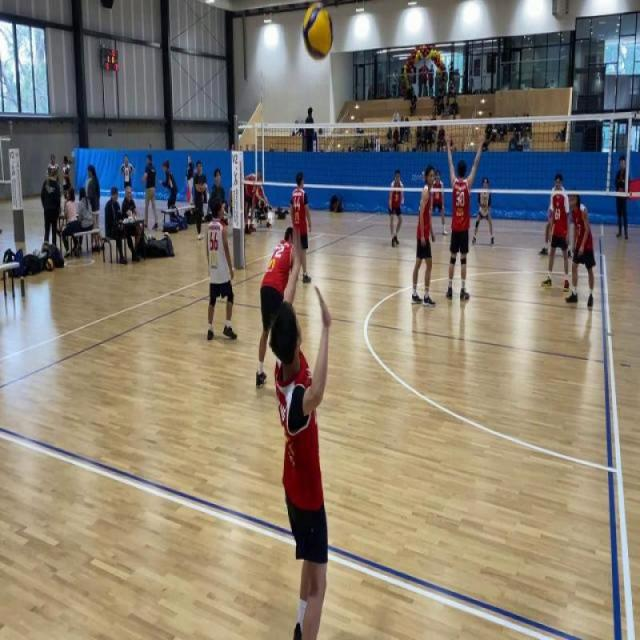volleyball: (300, 1, 335, 62), (46, 257, 54, 272), (163, 231, 170, 238), (147, 234, 153, 240)
